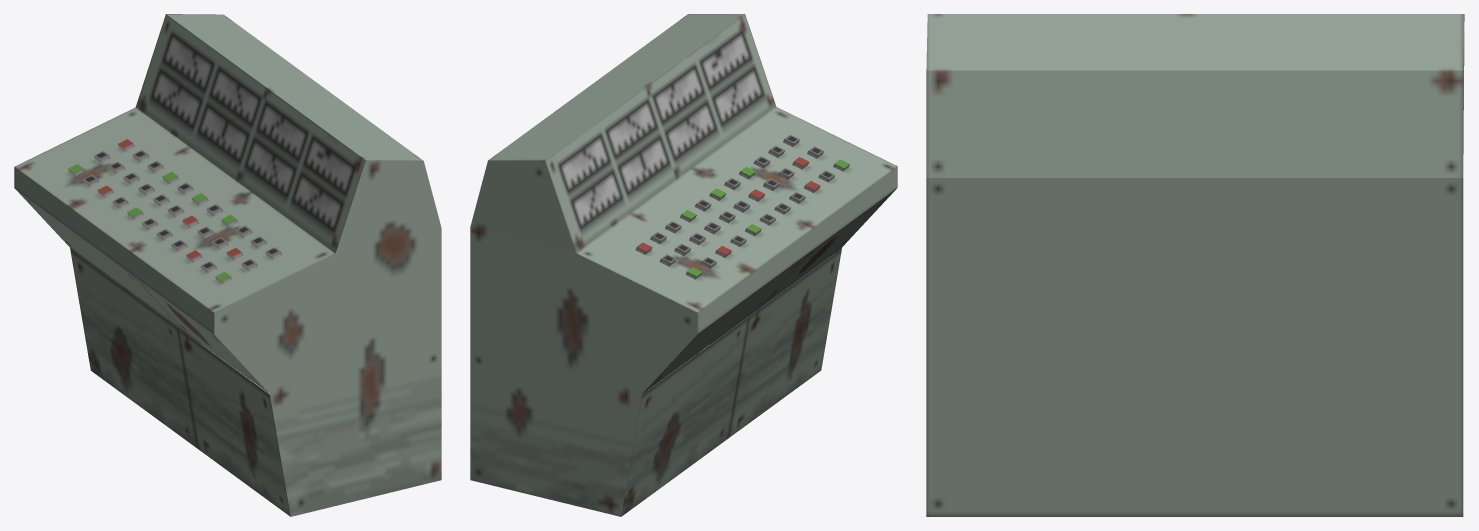
File: obj_console.fbx
3 renders of one model, left to right at view 1: azimuth 30°, elevation 25°; view 2: azimuth 150°, elevation 25°; view 3: azimuth 270°, elevation 25°, orthographic. The views are drawn at different scales.
Visible parts, largest first — view 1: obj_console; view 2: obj_console; view 3: obj_console.
Part boxes in pixels (x1,y1,x2,y2): obj_console: [14, 14, 441, 516]; obj_console: [470, 14, 897, 516]; obj_console: [926, 14, 1464, 516].
Bounding box in the file's own units: 70.66 × 100 × 108.
